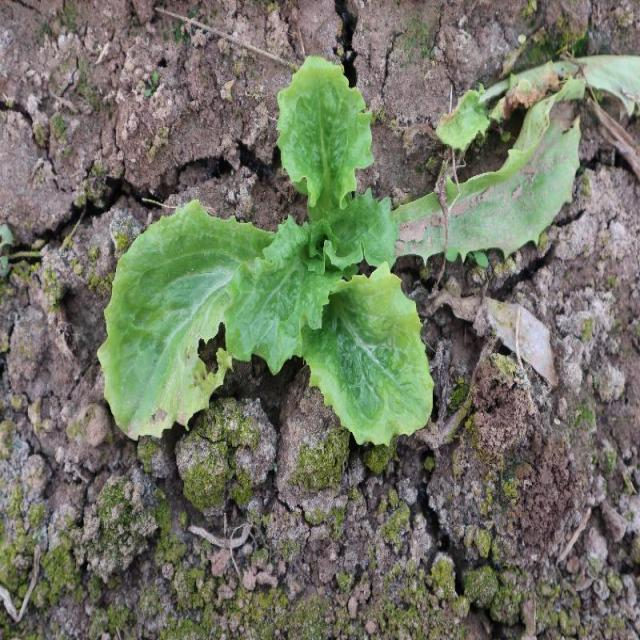crop: (98, 54, 438, 447)
